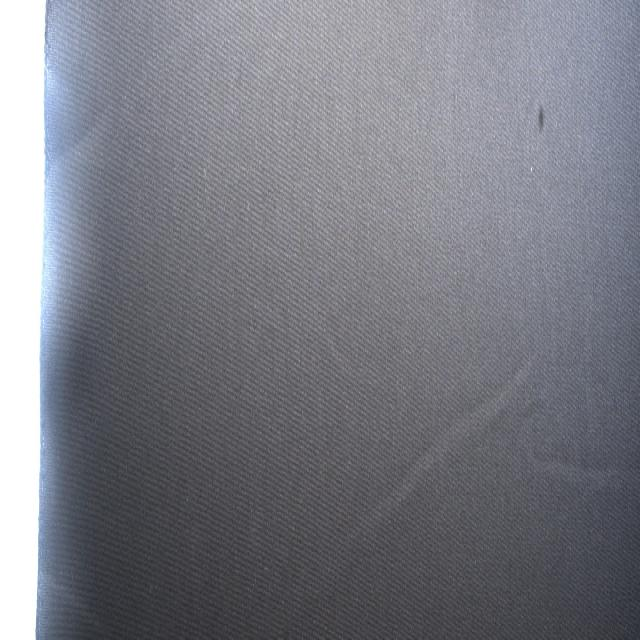crease: (377, 350, 537, 528), (534, 446, 640, 488), (51, 105, 102, 186)
